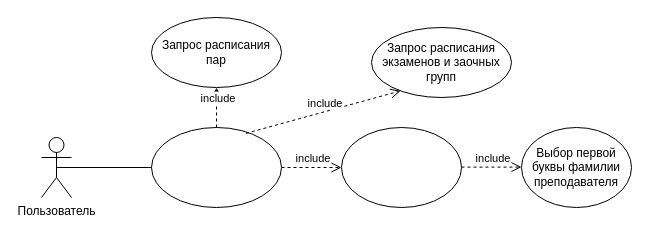
Image size: 649x236. Some labels were removed from this diagram. The shapes that lost their labels are listed below. From the top down, each one's box as (x1, y1, x2, y2) in pixels, then its label:
(150, 126, 282, 208): Запрос расписания преподавателя
(340, 126, 462, 208): Выбор преподавателя
